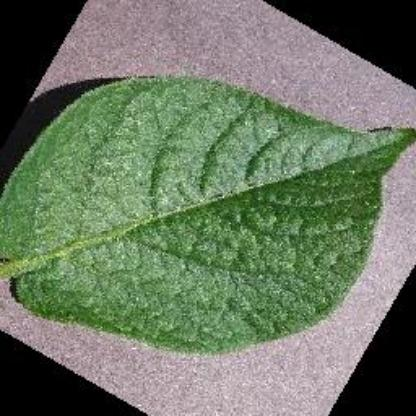Healthy-plant: (1, 35, 411, 383)
